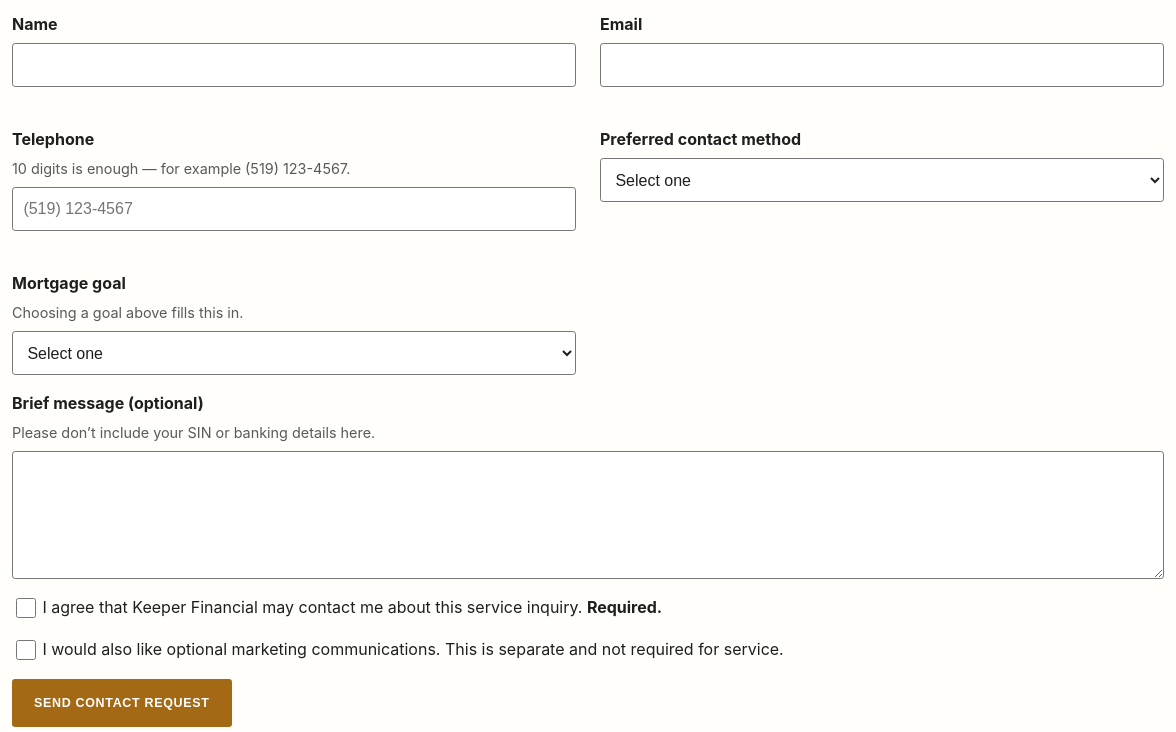
Test: minimal contact form › maps HTTP 422 to a useful non-internal focused error
Type "Synthetic Visitor" into the field labelled "Name" at (294, 65), box [12, 43, 576, 87]
Type "visitor@example.com" into the field labelled "Email" at (882, 65), box [600, 43, 1164, 87]
Type "+1 416 555 0100" into the field labelled "Telephone" at (294, 209), box [12, 187, 576, 231]
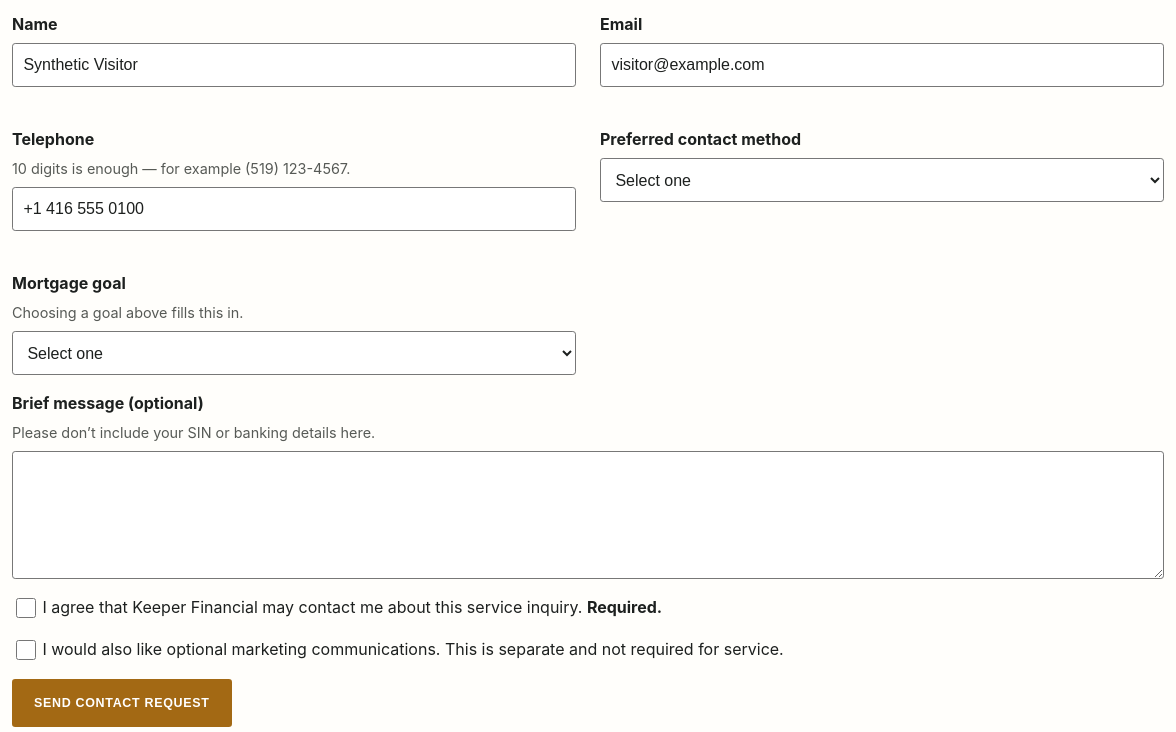
Select "Email" in the dropdown labelled "Preferred contact method" at (882, 180), box [600, 158, 1164, 202]
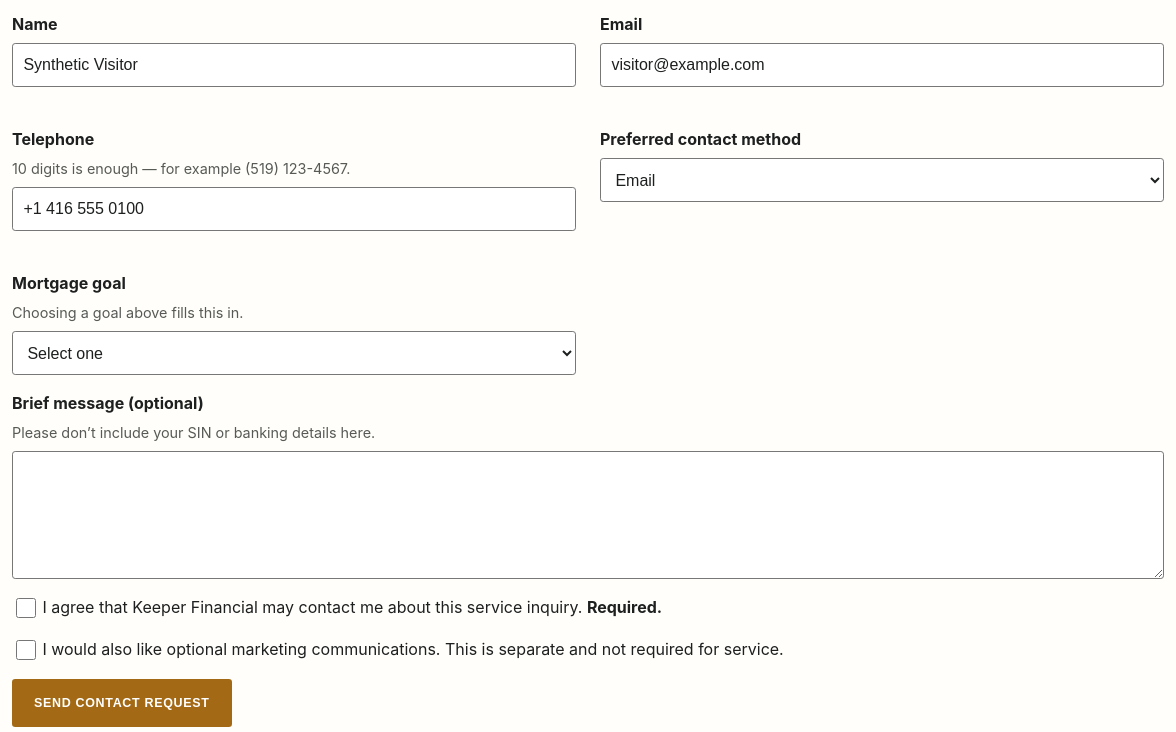
Select "Renewal" in the dropdown labelled "Mortgage goal" at (294, 353), box [12, 331, 576, 375]
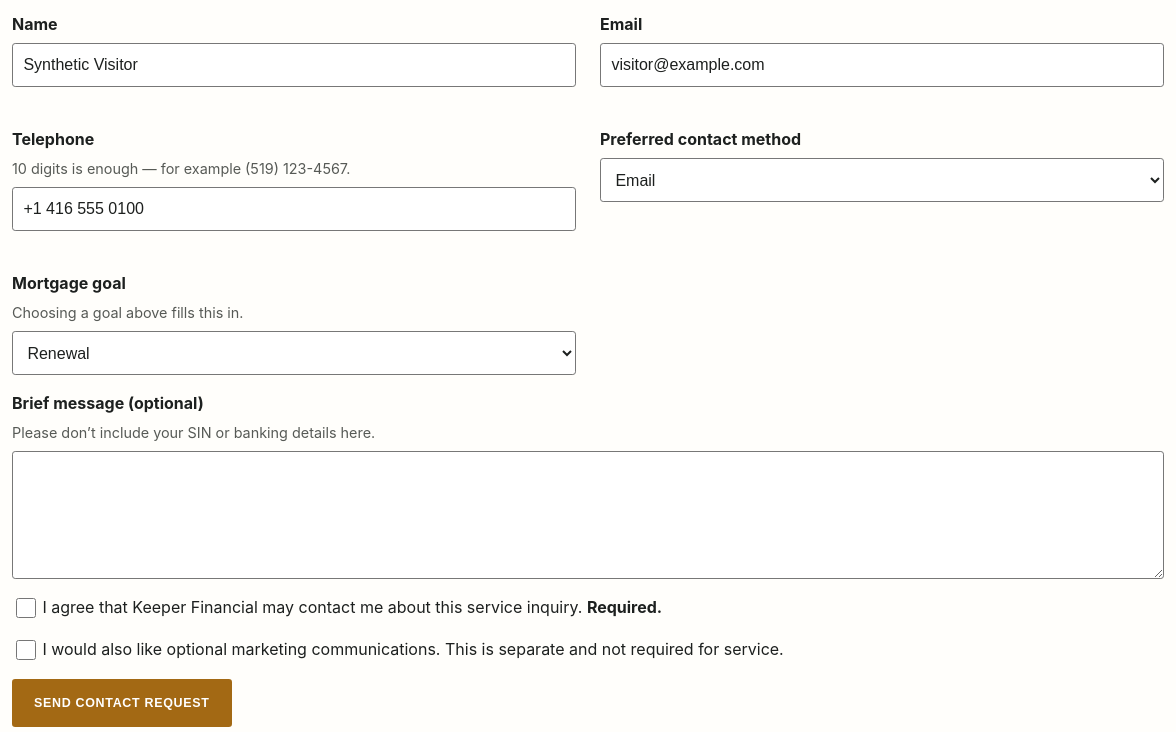
Click the checkbox labelled "I agree that Keeper Financial may contact me" at (26, 608), box [16, 598, 36, 618]
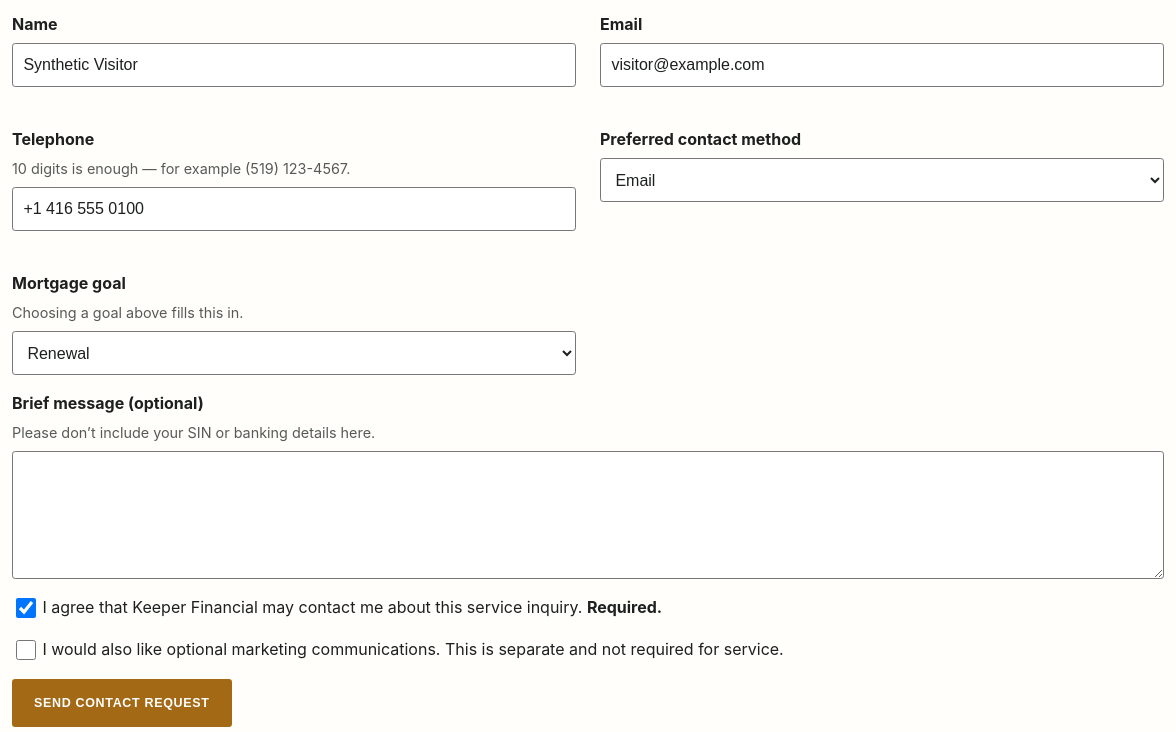
Replace the text in the field labelled "Name" with "Preserved Visitor" at (294, 65), box [12, 43, 576, 87]
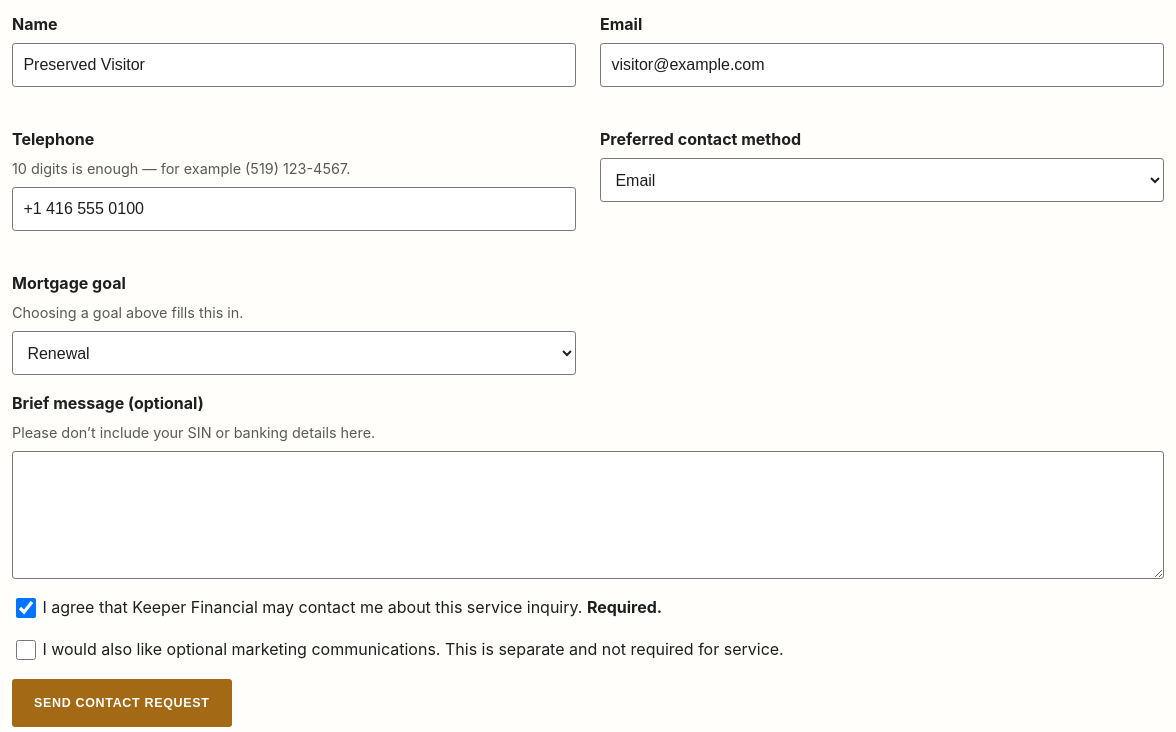
Submit the form
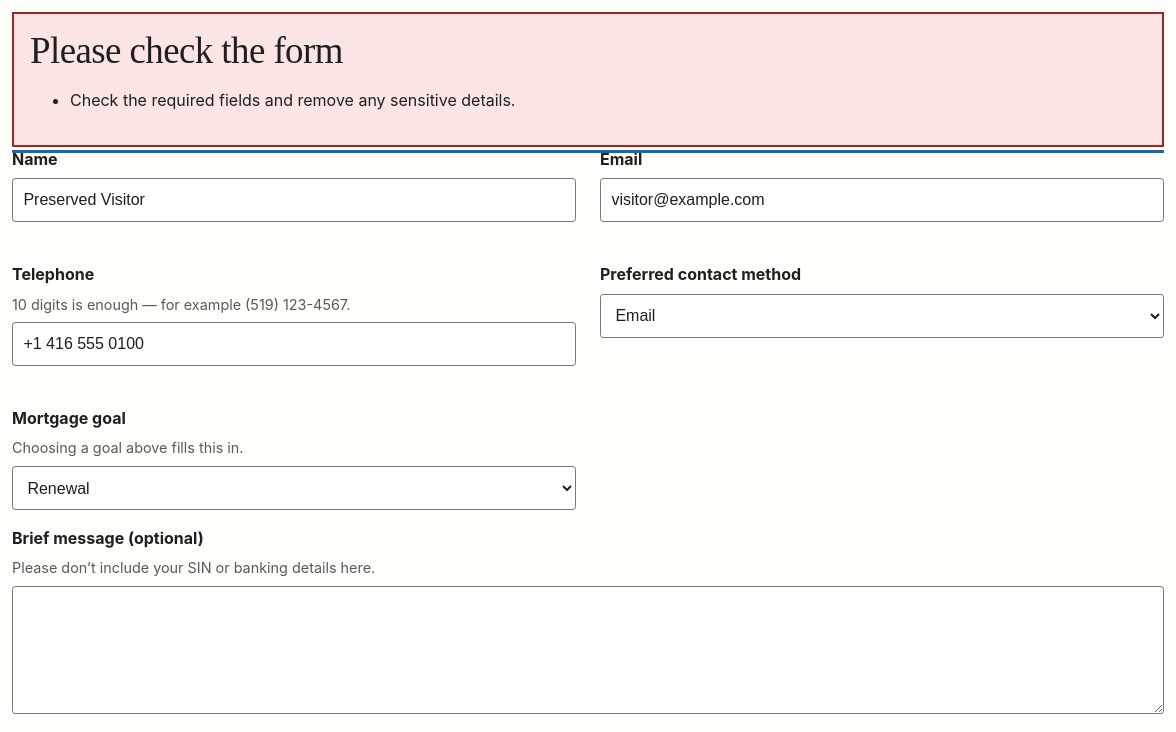
Now the message shows "Check the required fields", box [70, 90, 516, 110]
